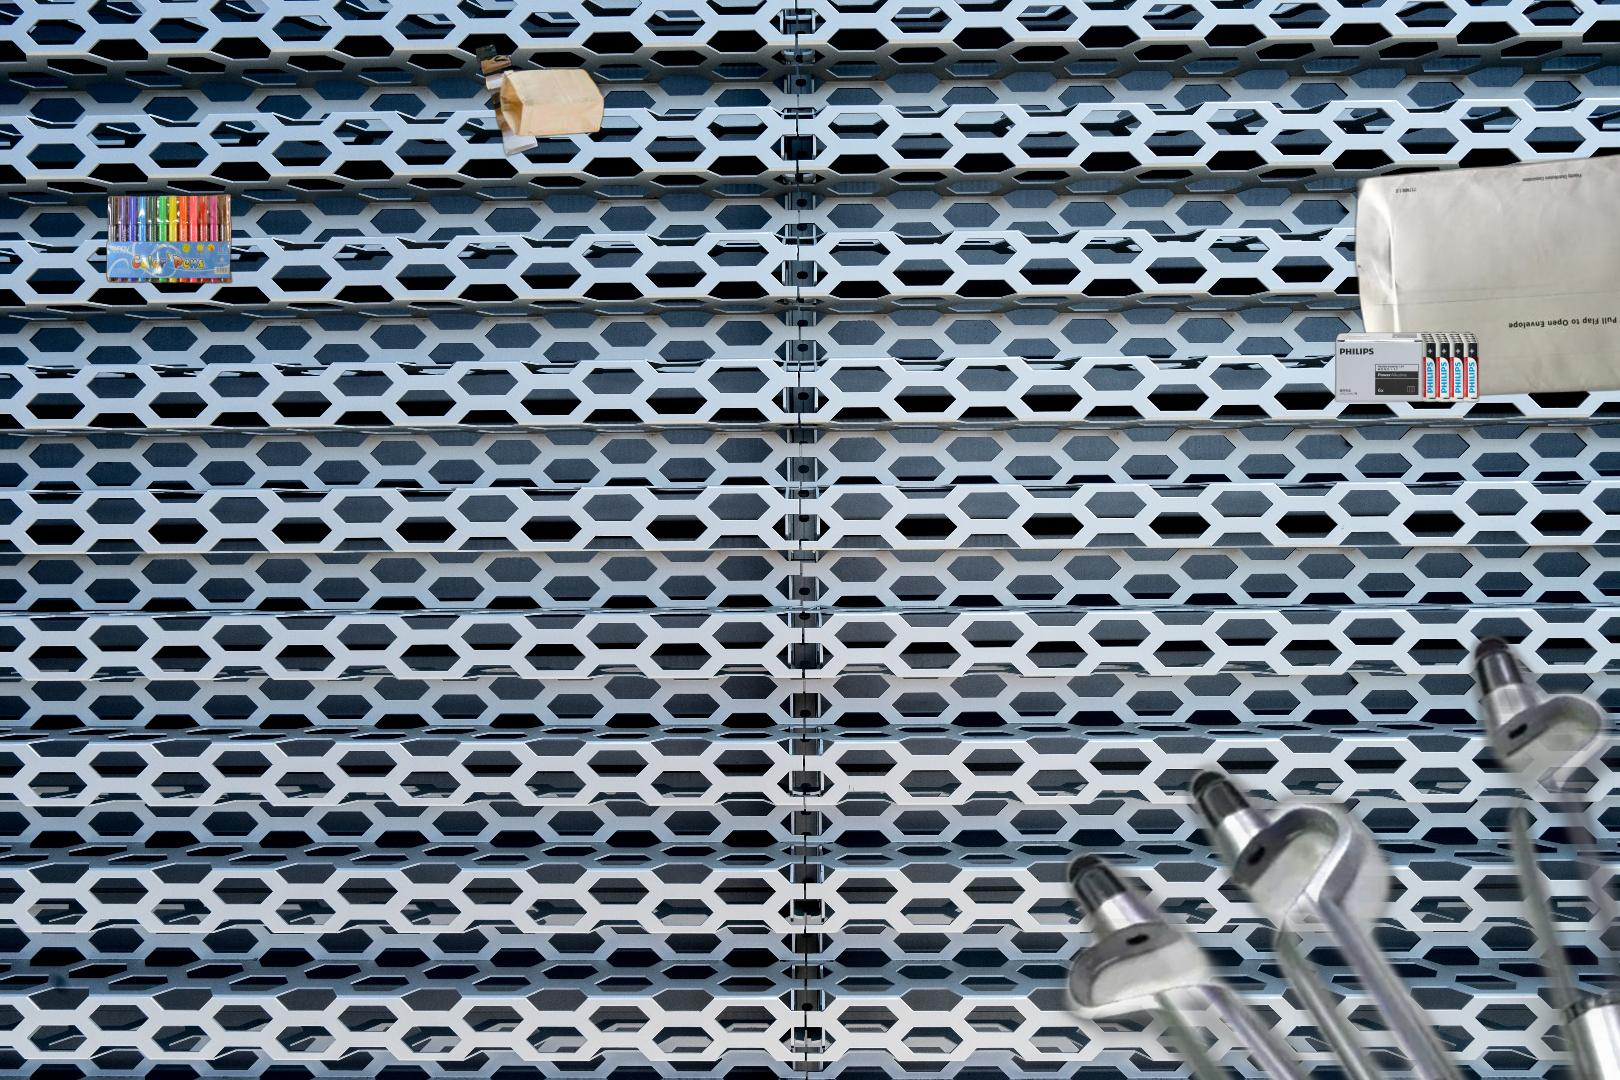battery: (1332, 329, 1482, 405)
paper: (1351, 139, 1620, 403)
paper-bag: (313, 8, 613, 308)
penholder: (741, 223, 1620, 1080), (104, 191, 234, 287)
